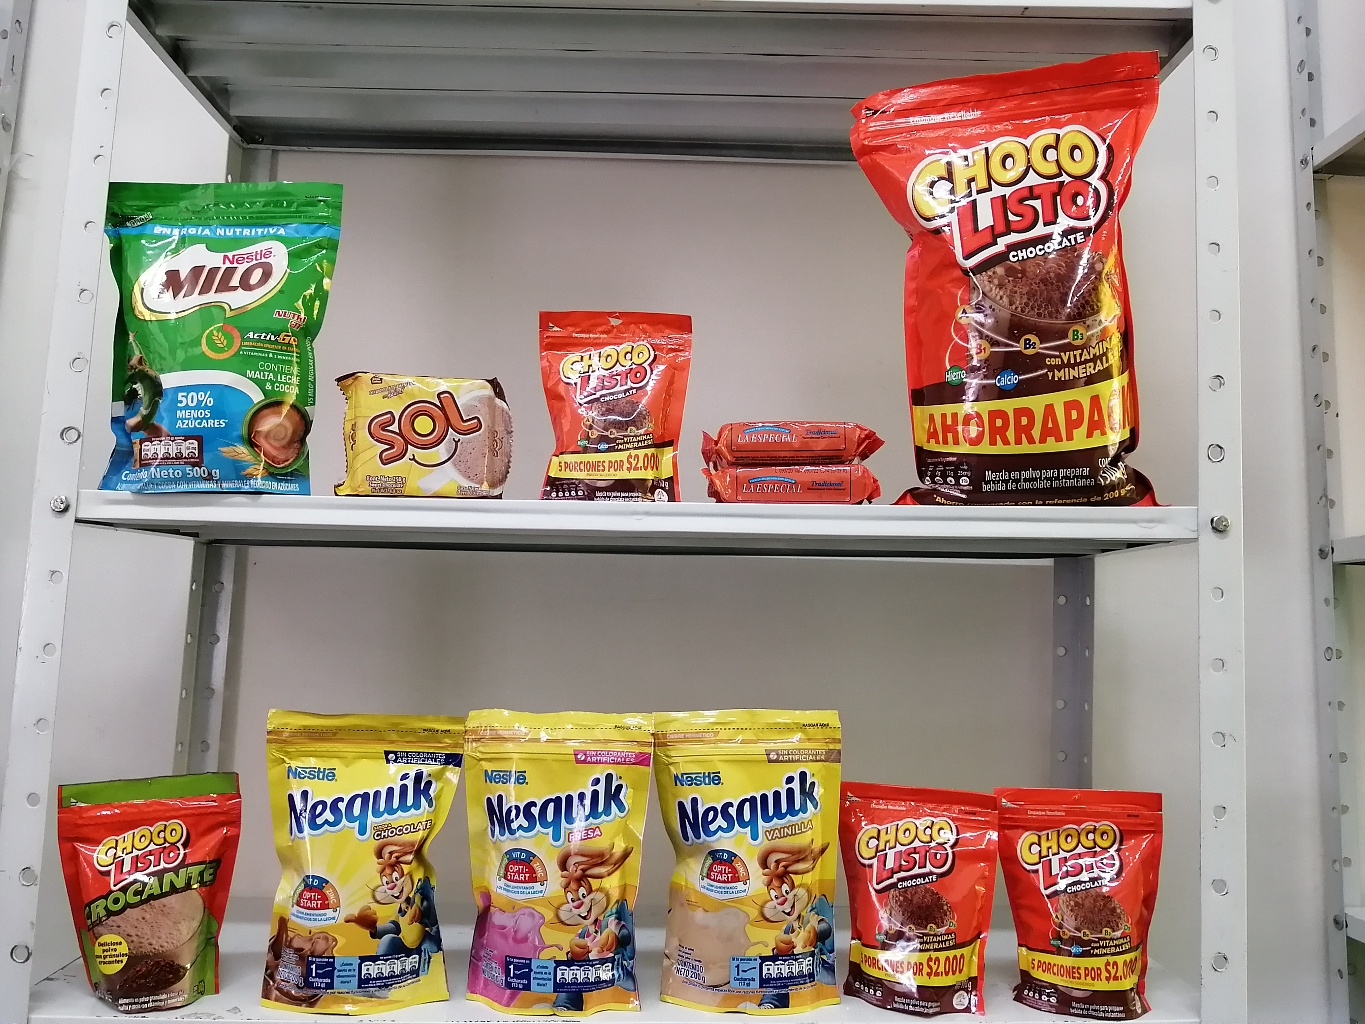COL0170102DYP10000: (54, 773, 241, 1015)
COL0170103DYP1,500: (844, 56, 1167, 508)
COL0170103DYP10000: (539, 308, 692, 501)
COL0170205DYP50000: (104, 179, 345, 496)
COL0170303DYP20000: (269, 708, 468, 1016)
COL0170305DYP20000: (459, 710, 659, 1020)
COL0170306DYP20000: (654, 710, 844, 1018)
